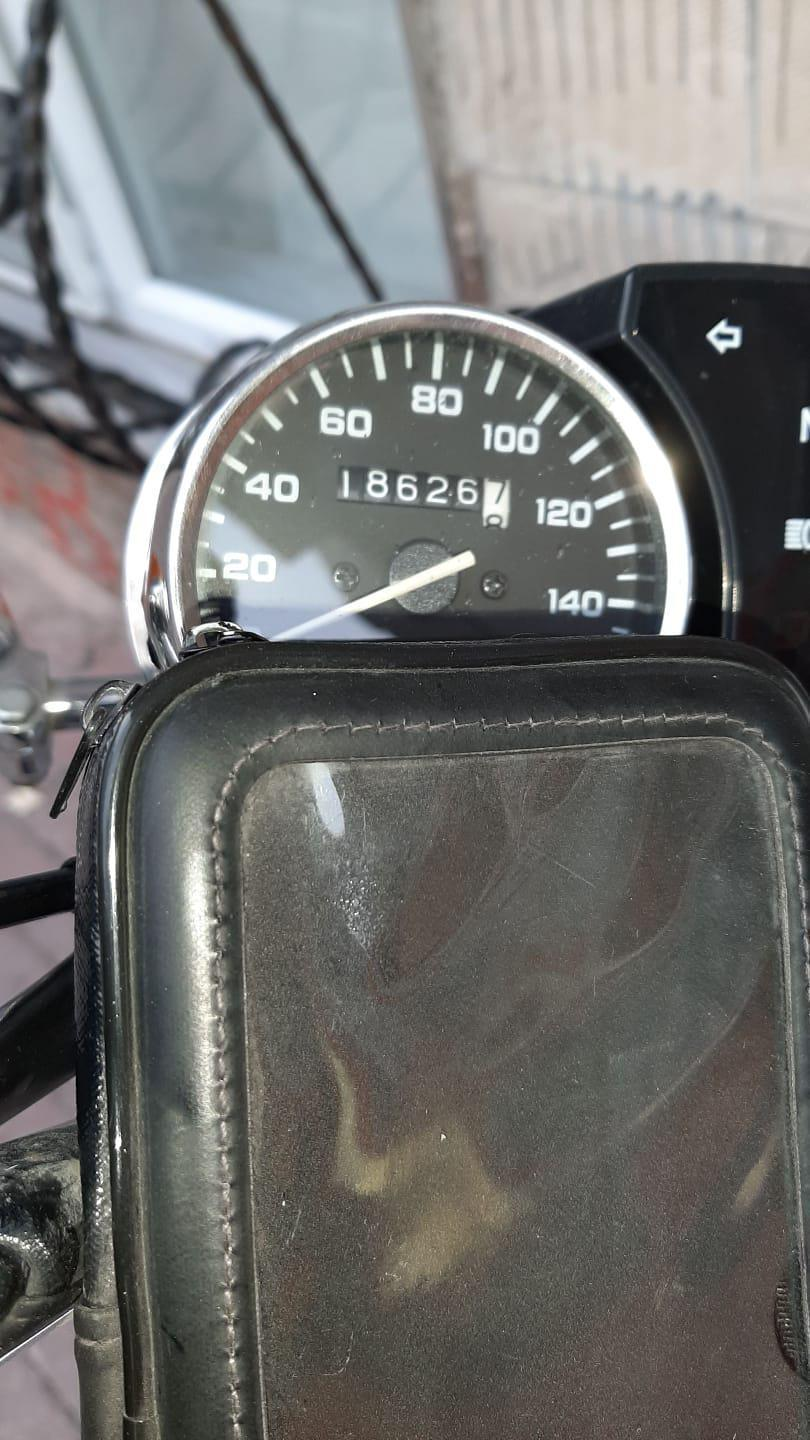1: (338, 463, 356, 511)
2: (424, 474, 449, 509)
6: (394, 469, 417, 504), (455, 474, 480, 506)
7: (487, 474, 509, 510)
8: (364, 465, 387, 504)
odometer: (331, 460, 520, 536)
